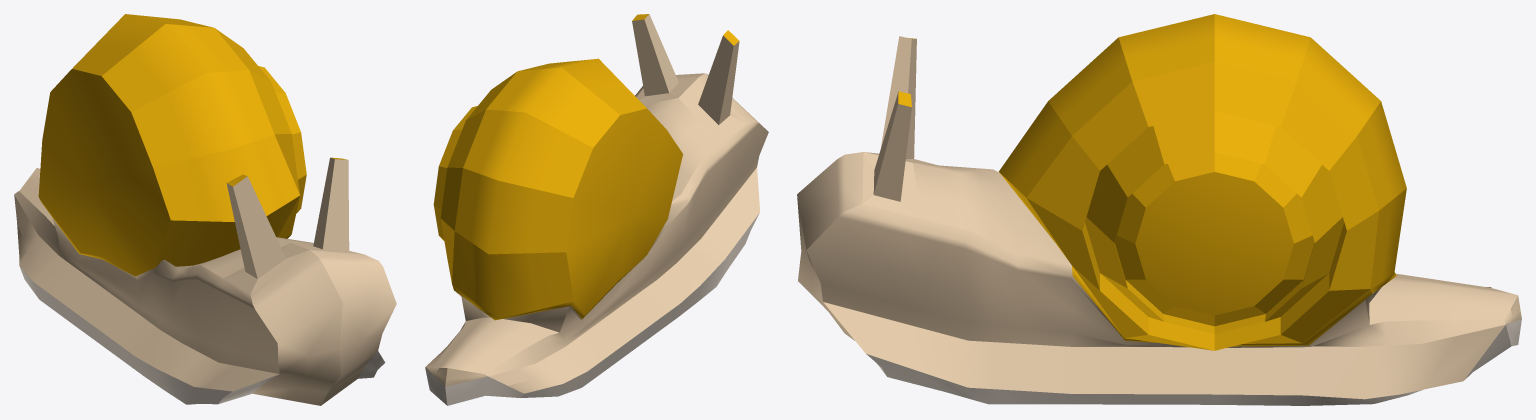
File: lowpoly_snail.fbx
3 views of the same model, side by side, from view 1: azimuth 30°, elevation 25°; view 2: azimuth 150°, elevation 25°; view 3: azimuth 270°, elevation 25° (orthographic). The views are drawn at different scales.
Visible parts, largest first — view 1: pCylinder1; view 2: pCylinder1; view 3: pCylinder1.
Boxes of the visible parts, x1,y1,x2,y2 form: pCylinder1: (14,14,396,405); pCylinder1: (425,14,768,405); pCylinder1: (797,14,1521,405).
Size of the model in its own units: 1.24 by 1.86 by 3.45.
